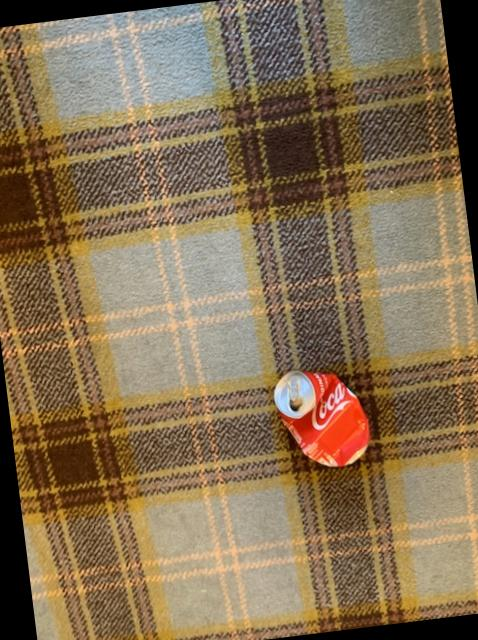metal: (273, 369, 368, 465)
